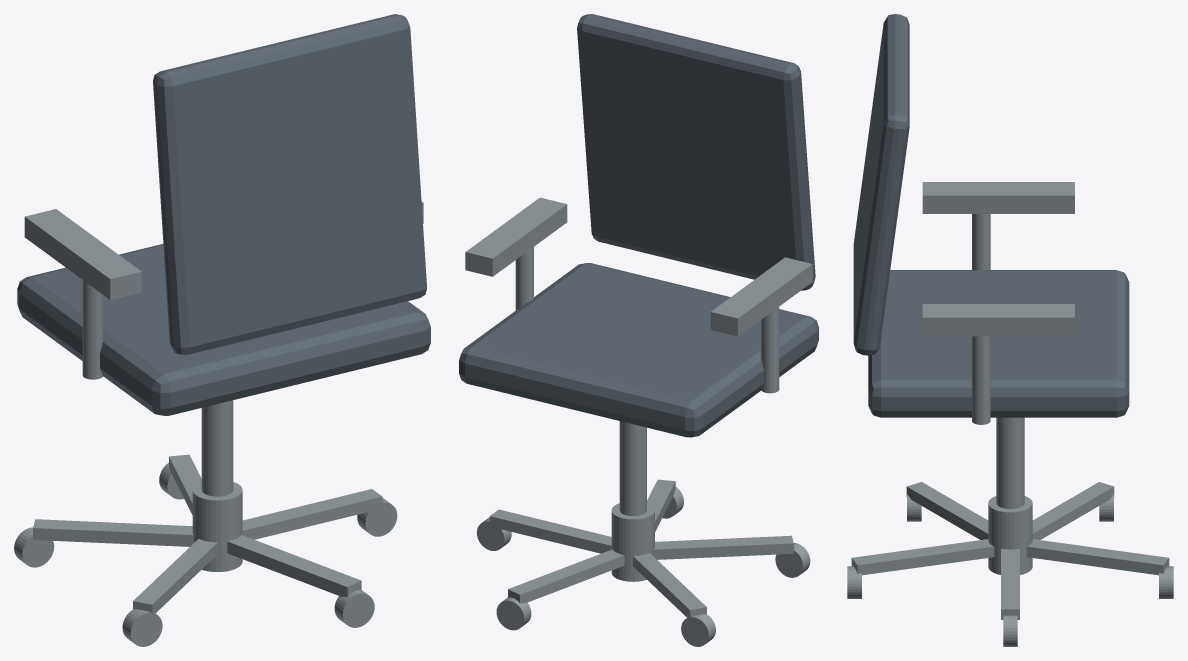
File: ai.chair-meeting.glb
3 renders of one model, left to right at view 1: azimuth 30°, elevation 25°; view 2: azimuth 150°, elevation 25°; view 3: azimuth 270°, elevation 25°, orthographic. The views are drawn at different scales.
Visible parts, largest first — view 1: Hero_Asset; view 2: Hero_Asset; view 3: Hero_Asset.
Part boxes in pixels (x1,y1,x2,y2): Hero_Asset: [14, 14, 430, 646]; Hero_Asset: [459, 14, 818, 646]; Hero_Asset: [847, 14, 1173, 646].
Size of the model in its own units: 0.5735 by 0.95 by 0.549.
